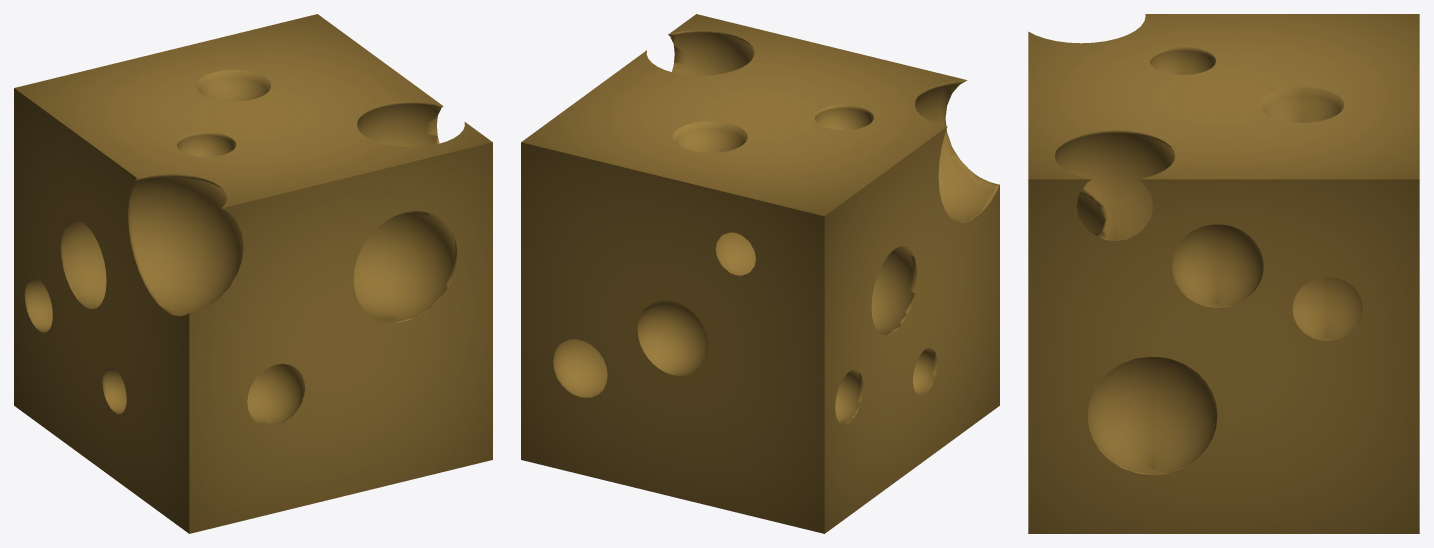
The model's file is cheese.glb.
3 renders of one model, left to right at view 1: azimuth 30°, elevation 25°; view 2: azimuth 150°, elevation 25°; view 3: azimuth 270°, elevation 25°, orthographic. The views are drawn at different scales.
Parts seen in each view (by area): view 1: Cube; view 2: Cube; view 3: Cube.
Part boxes in pixels (bbox=[...]): Cube: bbox=[14, 14, 492, 533]; Cube: bbox=[521, 14, 999, 533]; Cube: bbox=[1028, 14, 1419, 533].
Size of the model in its own units: 2 by 2 by 2.
Materials: 1 (1 with a texture image).
